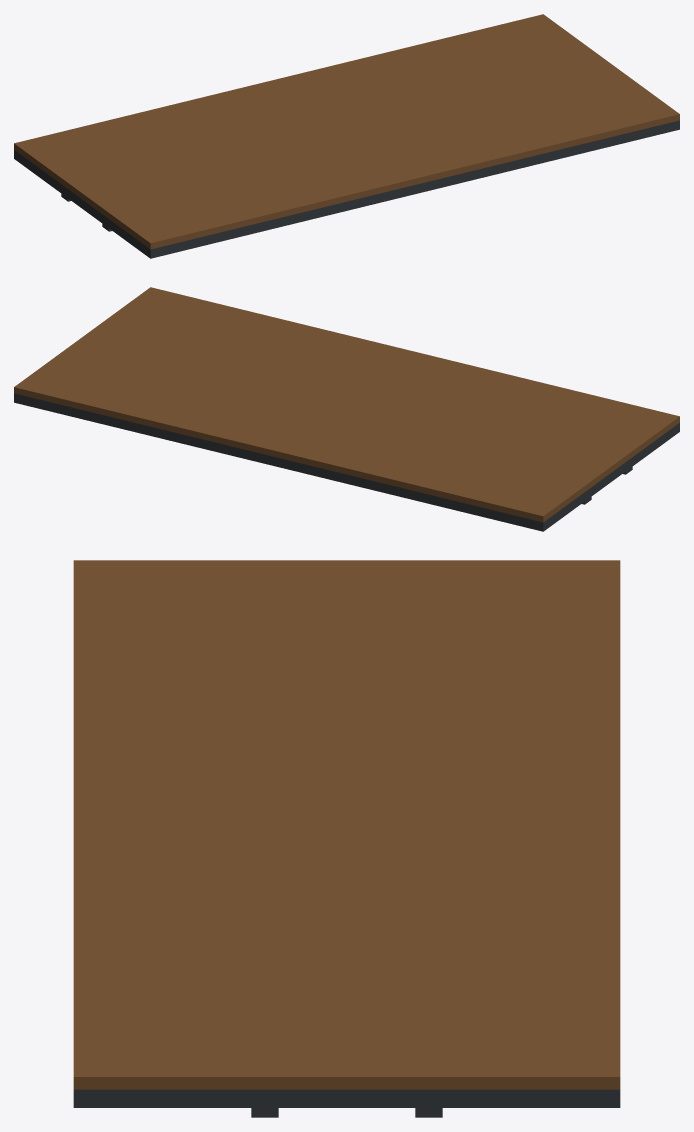
File: box_truck_box_floor.glb
3 renders of one model, top to bottom at view 1: azimuth 30°, elevation 25°; view 2: azimuth 150°, elevation 25°; view 3: azimuth 270°, elevation 25°, orthographic. The views are drawn at different scales.
Parts seen in each view (by area): view 1: body:compound; view 2: body:compound; view 3: body:compound.
Boxes of the visible parts, box(x1,y1,x2,y2) form: body:compound: box(14, 14, 679, 258); body:compound: box(14, 287, 679, 531); body:compound: box(73, 560, 620, 1117).
Size of the model in its own units: 5.59 by 0.2188 by 2.5.
